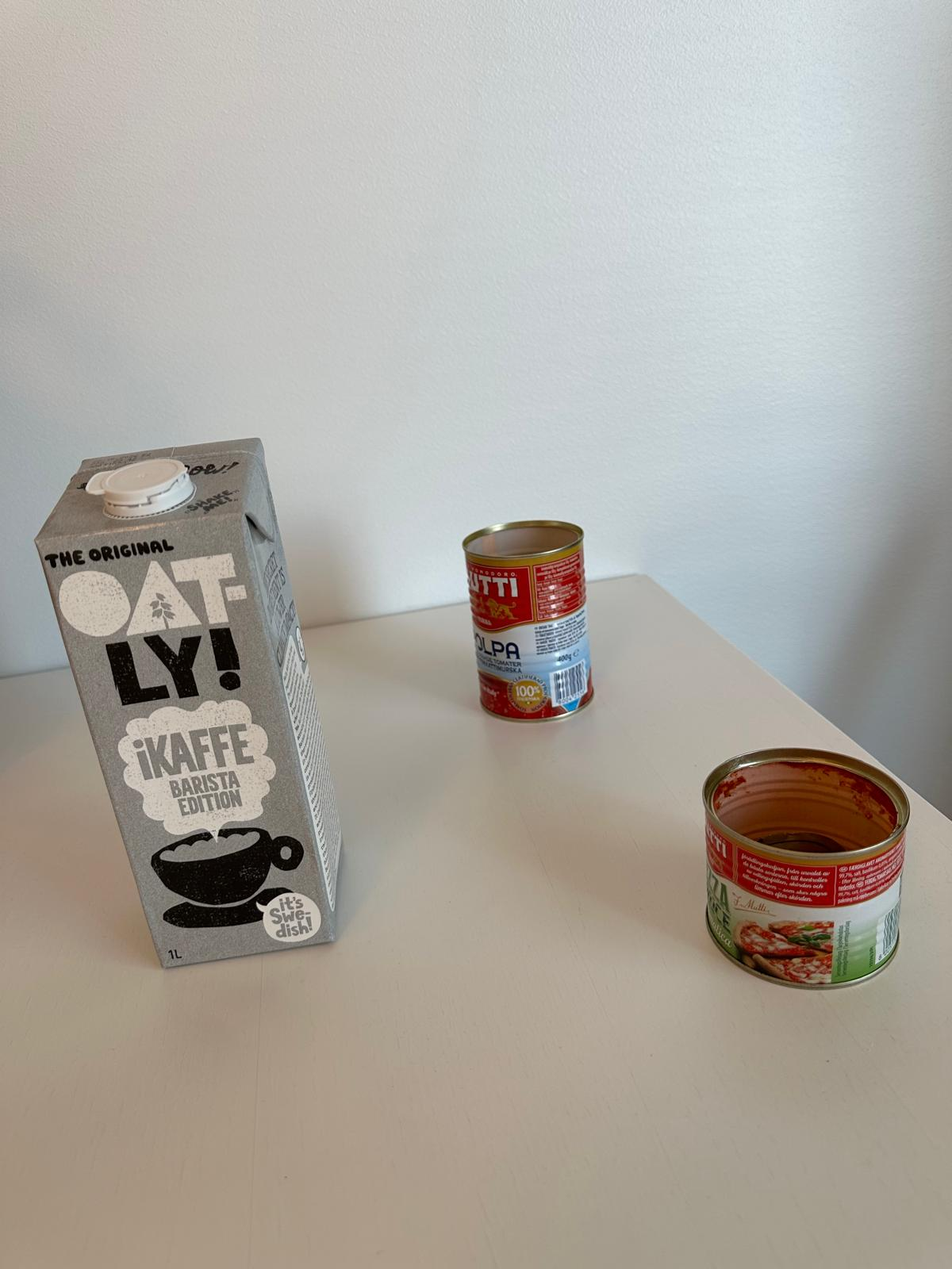Dryckeskartong: (34, 437, 345, 971)
Konservburk: (701, 746, 911, 990), (462, 518, 596, 724)
